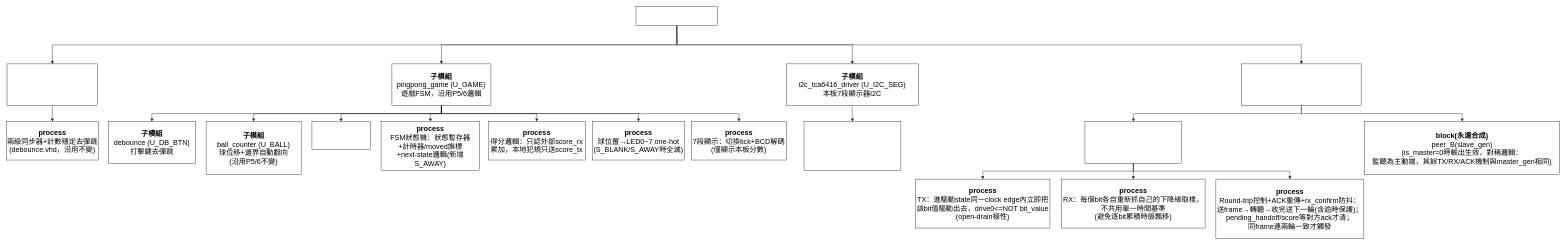
This 1566x245 diagram has some shape labels left out. The shapes that lost their labels are listed below. From the top down, each one's centre as x and y in pixels, then its label:
At point 677,16: "pingpong9_hw_top".
At point 52,85: "子模組 debounce (U_DB_GRST) GRST去彈跳".
At point 1301,85: "子模組 link_wire_drv (U_LINK_WIRE) 跨板單線協定driver".
At point 341,135: "process game_tick分頻器".
At point 852,145: "process I2C master時序，寫入TCA6416 暫存器控制7段顯示 (沿用Project7不變)".
At point 1133,142: "block(永遠合成) peer_A (master_gen) (is_master=1時輸出生效)".
